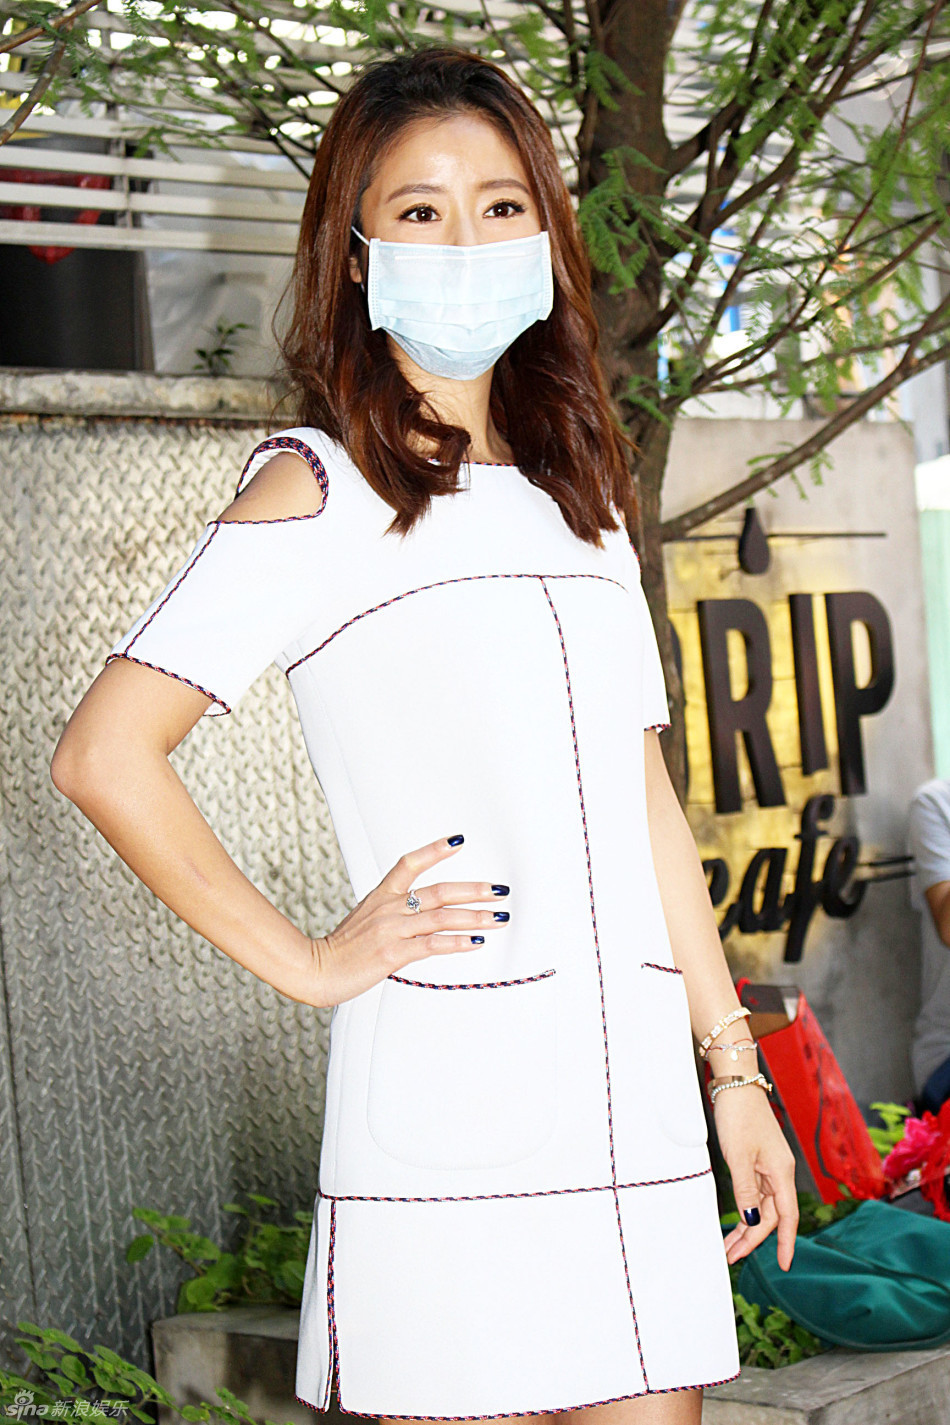face_mask: (362, 113, 543, 374)
